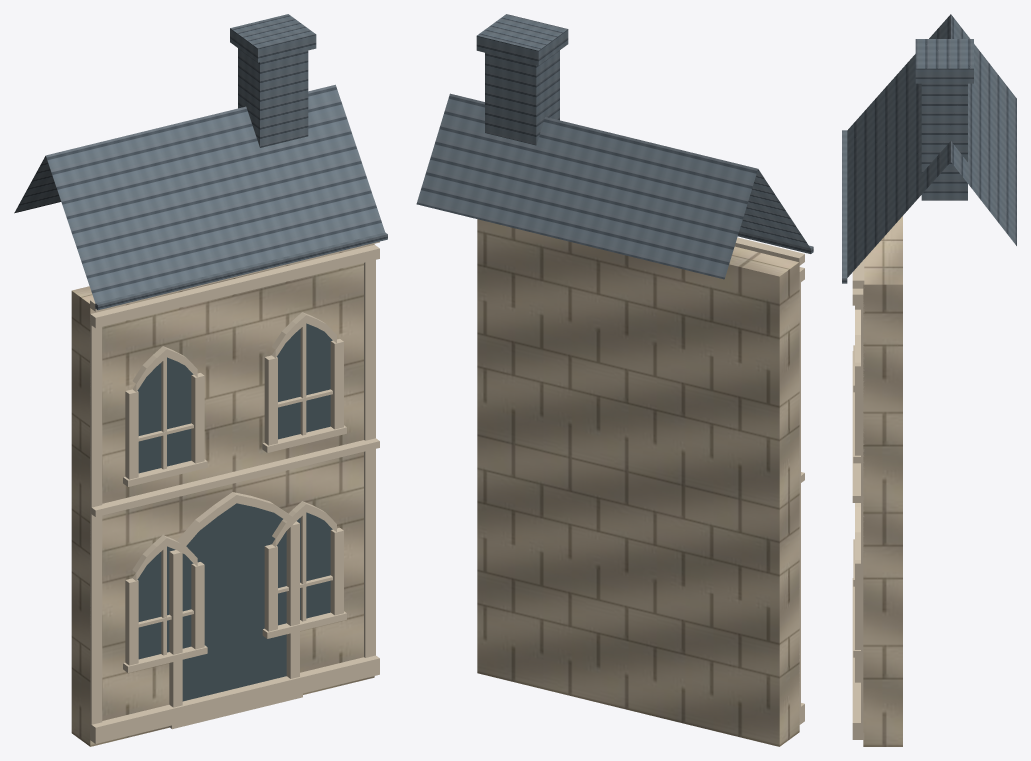
The model's file is courtyard_range.glb.
The picture shows the model from 3 angles, left to right: view 1: azimuth 30°, elevation 25°; view 2: azimuth 150°, elevation 25°; view 3: azimuth 270°, elevation 25°; orthographic projection. The views are drawn at different scales.
Parts seen in each view (by area): view 1: Ashlar walls.001, Slate roof.001, Limestone dressings.001, Recessed windows and gate.001, Limestone dressings, Recessed windows and gate; view 2: Ashlar walls.001, Slate roof.001, Limestone dressings.001; view 3: Slate roof.001, Ashlar walls.001, Limestone dressings.001, Limestone dressings.
Part boxes in pixels (<box>): Ashlar walls.001: <box>71,244,374,746</box>; Slate roof.001: <box>14,14,387,310</box>; Limestone dressings.001: <box>90,241,379,743</box>; Recessed windows and gate.001: <box>137,323,332,701</box>; Limestone dressings: <box>123,501,346,672</box>; Recessed windows and gate: <box>137,512,332,659</box>; Ashlar walls.001: <box>477,219,799,746</box>; Slate roof.001: <box>416,14,813,279</box>; Limestone dressings.001: <box>734,237,804,724</box>; Slate roof.001: <box>842,14,1016,283</box>; Ashlar walls.001: <box>863,216,902,746</box>; Limestone dressings.001: <box>852,259,864,739</box>; Limestone dressings: <box>853,507,860,657</box>.
Size of the model in its own units: 4.08 by 8.51 by 2.04.
4 materials, 2 textured.
